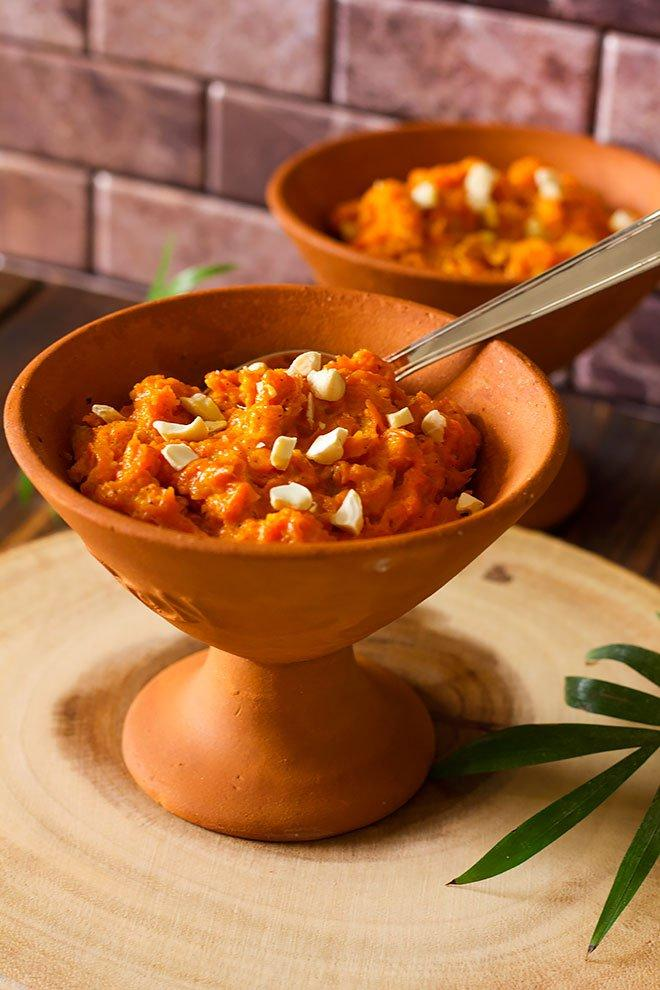Gajar ka halwa: (51, 311, 536, 829)
